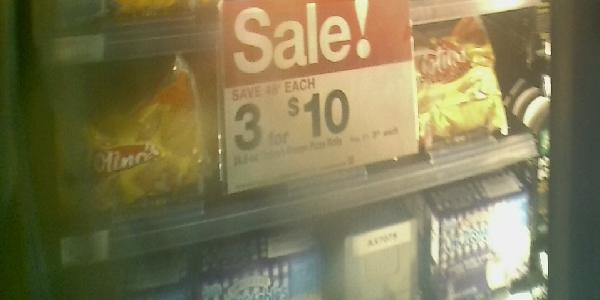icecream: (219, 13, 422, 184), (53, 53, 207, 208), (404, 15, 510, 150)
